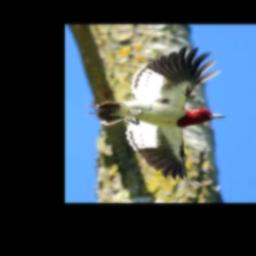Woodpecker: (90, 47, 226, 186)
